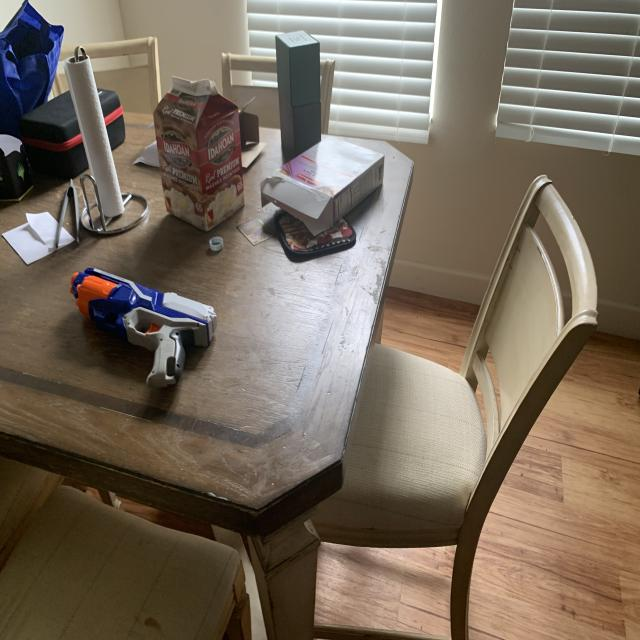nerf-maverik: (62, 256, 223, 398)
